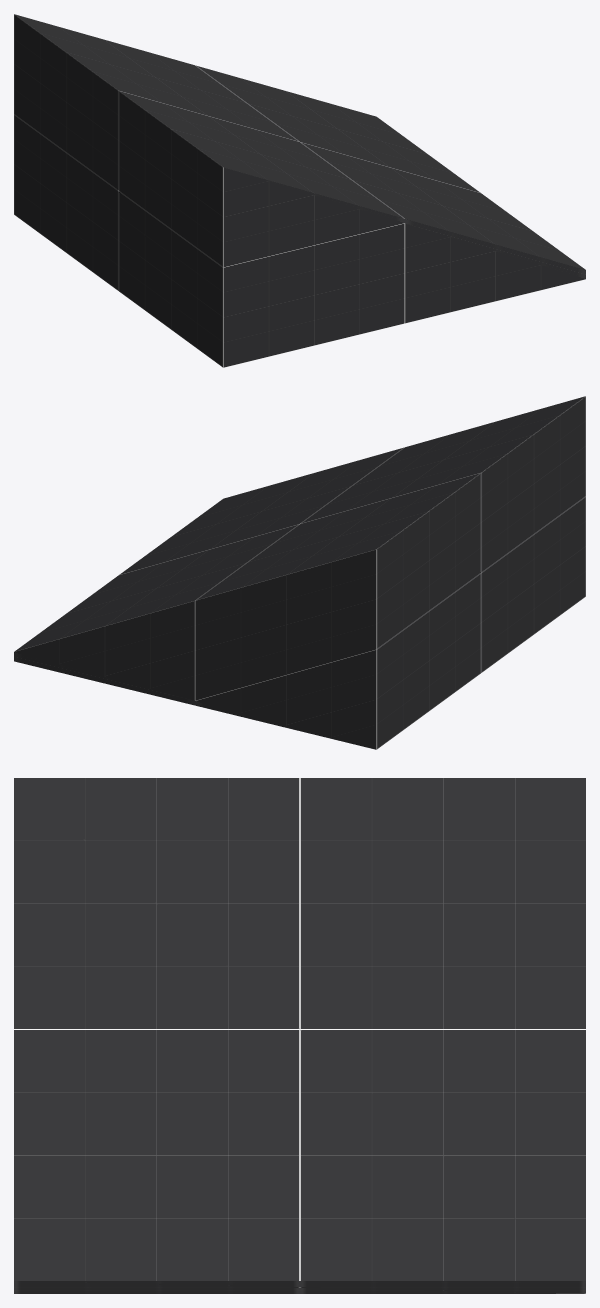
The model's file is ramp.glb.
3 renders of one model, top to bottom at view 1: azimuth 30°, elevation 25°; view 2: azimuth 150°, elevation 25°; view 3: azimuth 270°, elevation 25°, orthographic. The views are drawn at different scales.
Visible parts, largest first — view 1: ramp-col; view 2: ramp-col; view 3: ramp-col.
Part boxes in pixels (x1=…): ramp-col: x1=14, y1=14, x2=585, y2=367; ramp-col: x1=14, y1=396, x2=585, y2=749; ramp-col: x1=14, y1=778, x2=585, y2=1293.
Bounding box in the file's own units: 2 × 1.06 × 2.
Materials: 1 (1 with a texture image).
